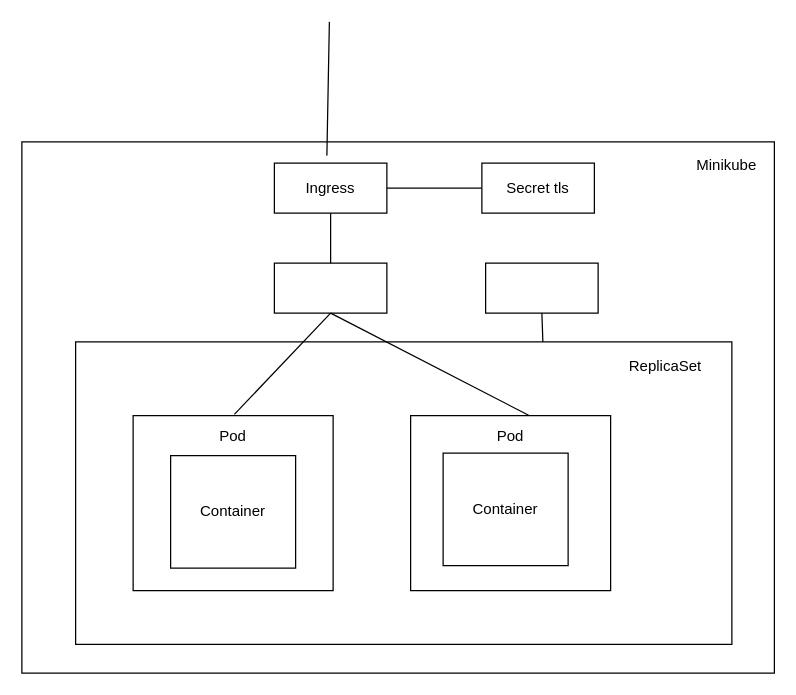
The diagram is 796 pixels wide and 695 high, and some of its shapes have lost their labels. The box of each missing label's shape, as (x1, y1, x2, y2) in pixels:
Configmap: (484, 262, 598, 313)
Service: (273, 262, 387, 313)
